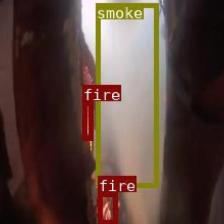fire: (96, 191, 117, 223), (82, 100, 92, 140)
smoke: (95, 2, 158, 187)
